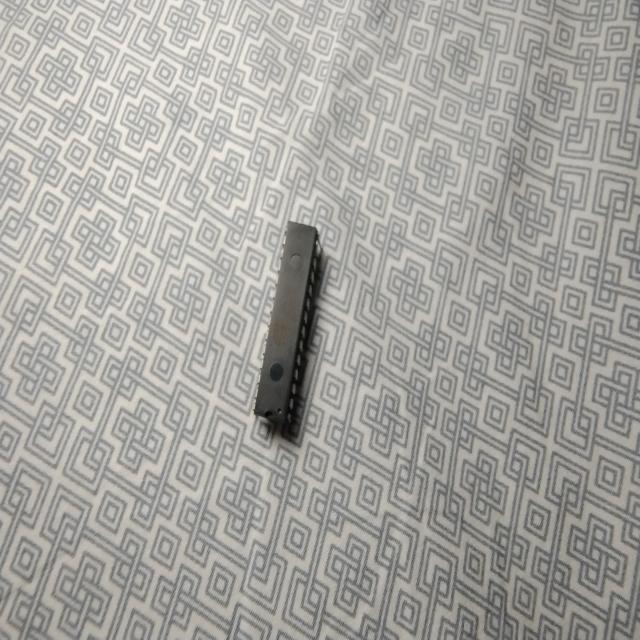atmega: (250, 218, 324, 444)
